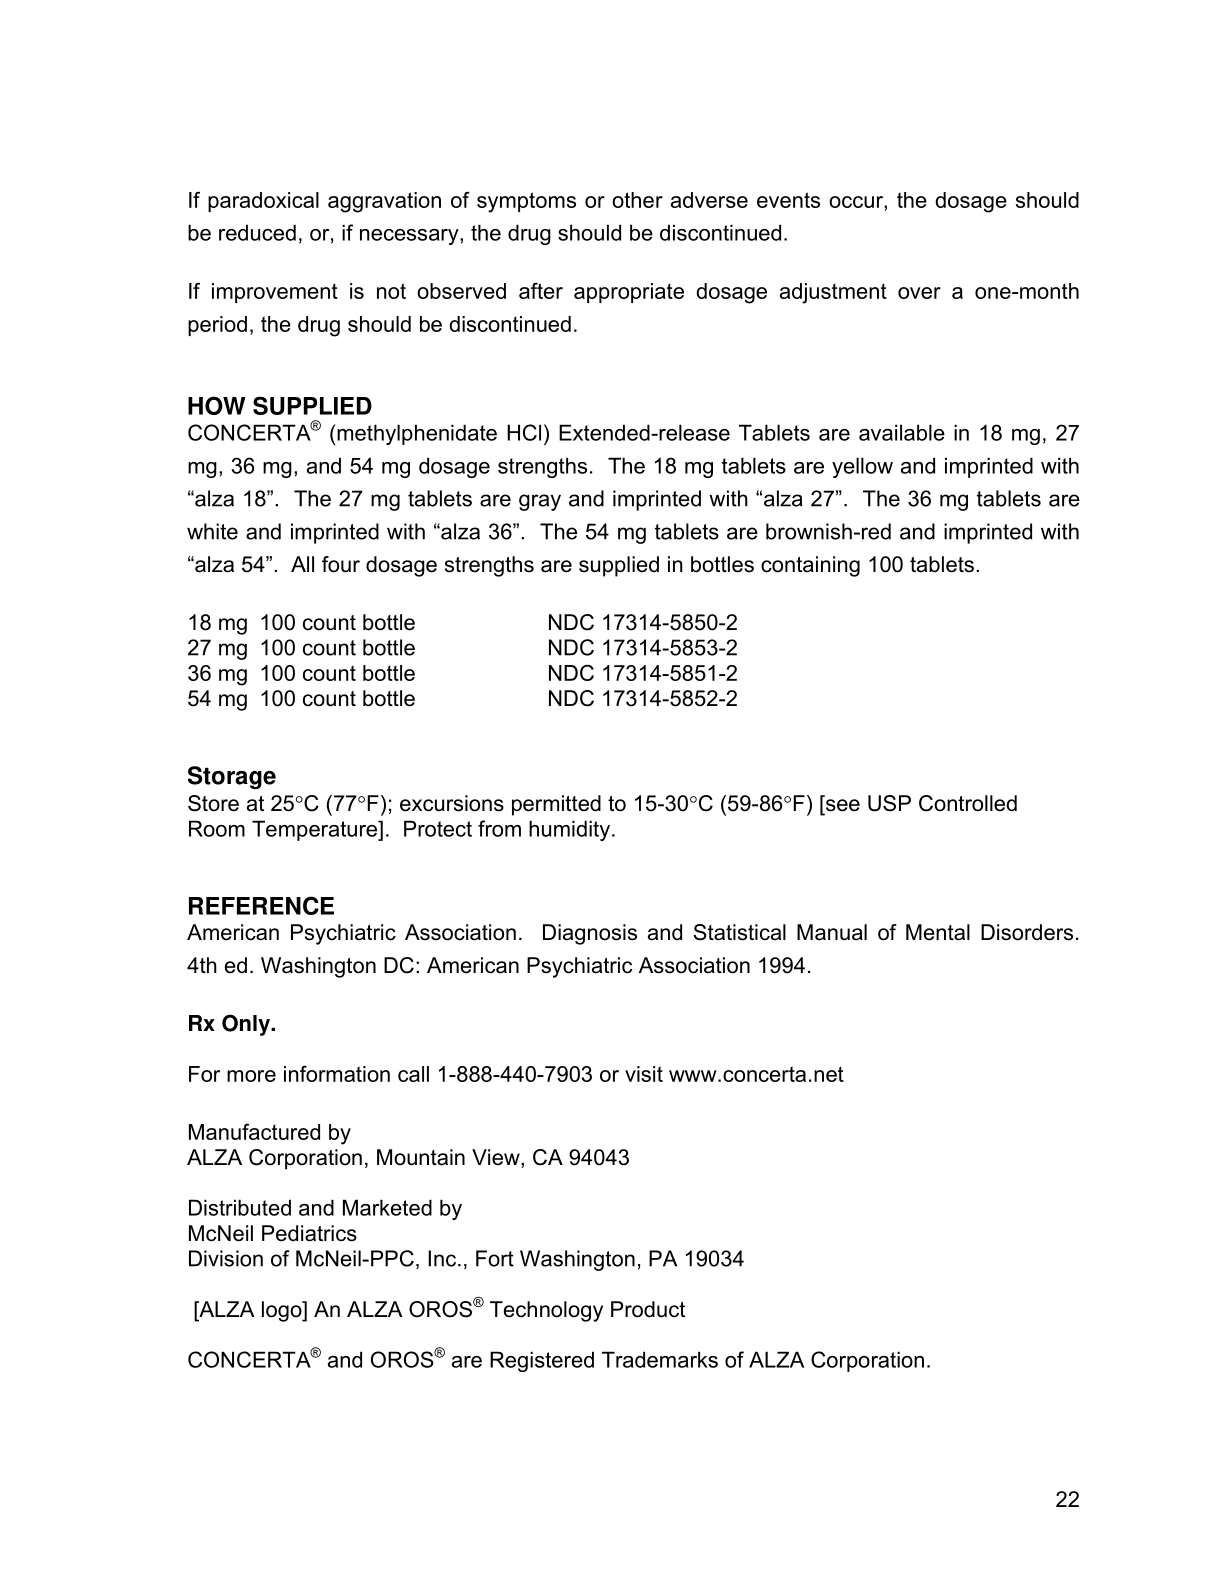nolines: (185, 611, 741, 714)
